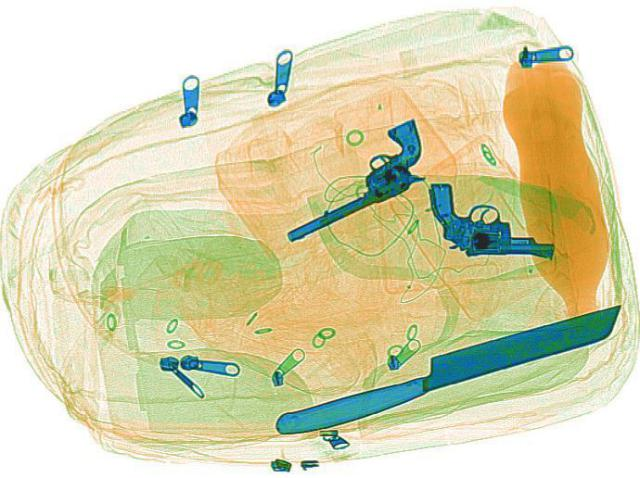Gun: (245, 117, 459, 244), (422, 181, 558, 255)
Knife: (261, 296, 637, 441)
